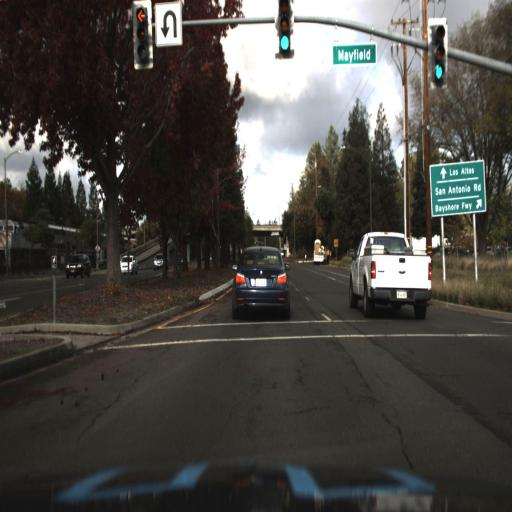car: (344, 223, 435, 324), (230, 244, 292, 318), (63, 250, 88, 282), (310, 239, 328, 268), (312, 237, 327, 266), (119, 252, 136, 274), (151, 253, 168, 275)
trafficLight-Green: (429, 40, 446, 90)
